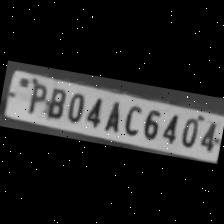0: (175, 111, 201, 148), (62, 88, 86, 124)
4: (194, 116, 220, 152), (156, 108, 181, 144), (82, 92, 104, 128)
6: (138, 104, 162, 140)
A: (100, 96, 124, 132)
B: (42, 84, 68, 120)
C: (119, 100, 143, 137)
P: (22, 78, 47, 115)
